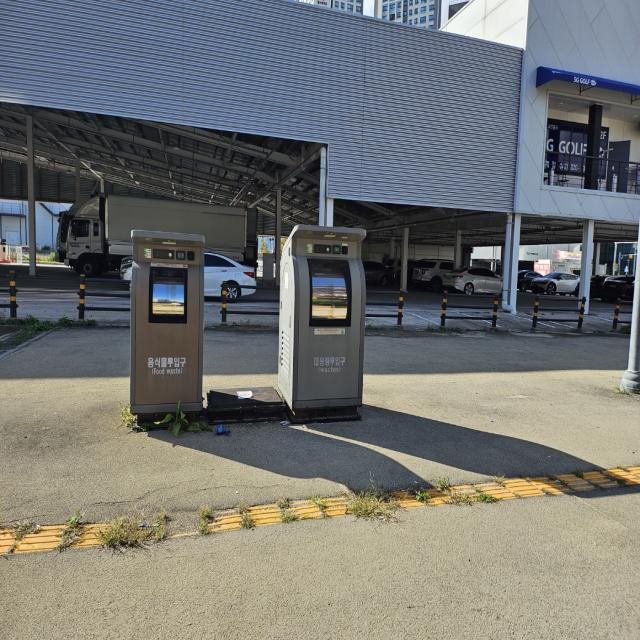CleanNet: (279, 218, 372, 422), (126, 223, 212, 413)
